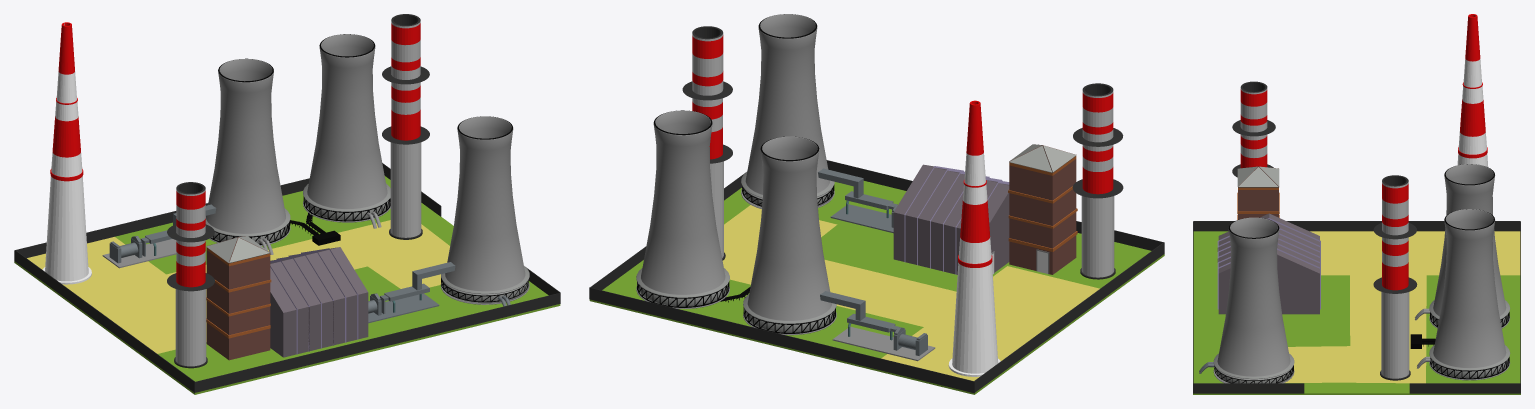
File: ThermalPowerPlant.fbx
The picture shows the model from 3 angles, left to right: view 1: azimuth 30°, elevation 25°; view 2: azimuth 150°, elevation 25°; view 3: azimuth 270°, elevation 25°; orthographic projection. The views are drawn at different scales.
Visible parts, largest first — view 1: Cube; view 2: Cube; view 3: Cube.
Part boxes in pixels (x1,y1,x2,y2): Cube: [14, 14, 560, 394]; Cube: [589, 14, 1164, 394]; Cube: [1193, 14, 1520, 394].
Size of the model in its own units: 6938 by 4621 by 5920.
